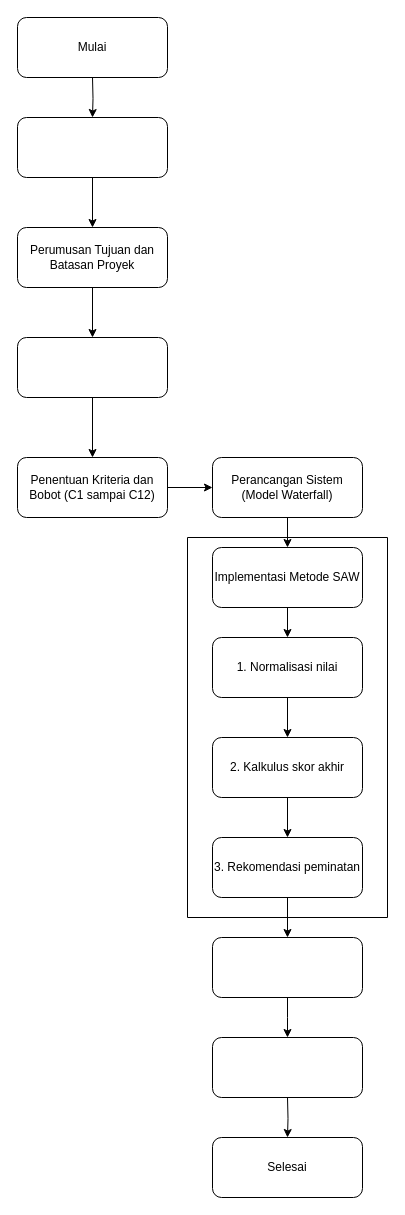
Some shapes in this 405 by 1215 pixel diagram are drawn without their labels. Here are the shapes that lost their labels. From the top down, the centre of each, then its label:
the point at 92,147: Identifikasi Masalah Mahasiswa dalam Memilih Peminatan
the point at 92,367: Pengumpulan Data Nilai Akademik Mahasiswa
the point at 287,967: Pengujian sistem (Blackbbox)
the point at 287,1067: Output rekomendas peminatan
